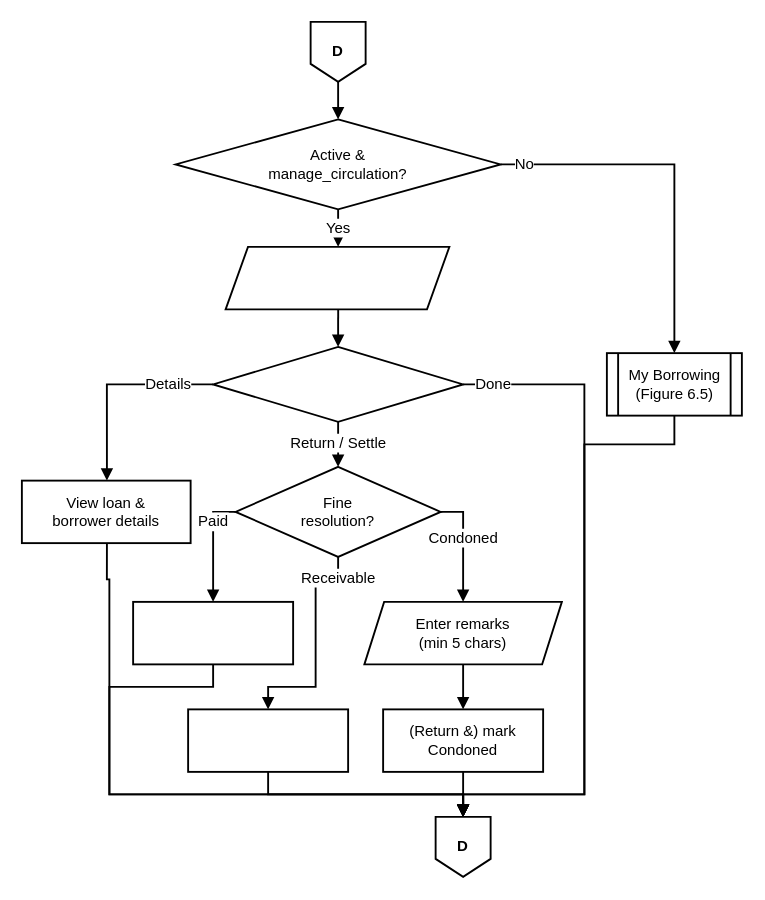
Image size: 765x900. Some labels were removed from this diagram. The centre of each missing label's shape, as x and y in pixels:
(Return &) mark Paid: the point at 213,632
Return only; keep Receivable: the point at 267,740
Search or filter Borrowing Logs: the point at 337,277
Select action?: the point at 338,383
